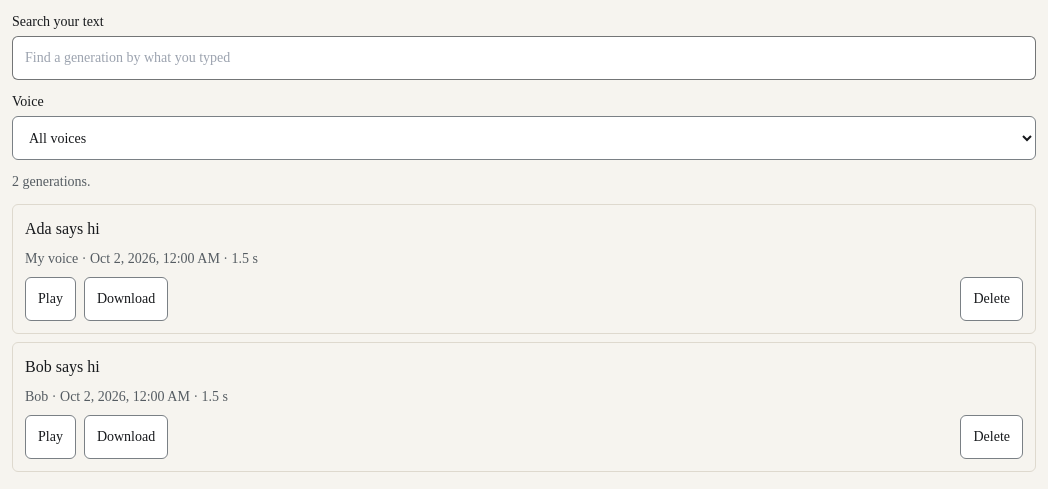
Test: History voice filter › narrows the list and its count to the chosen voice, and back to all
Check: the text "2 generations." is shown, box [12,174,90,189]
Step 1. Select "Bob" in the dropdown labelled "Voice" → [524, 138], box [12,116,1036,160]
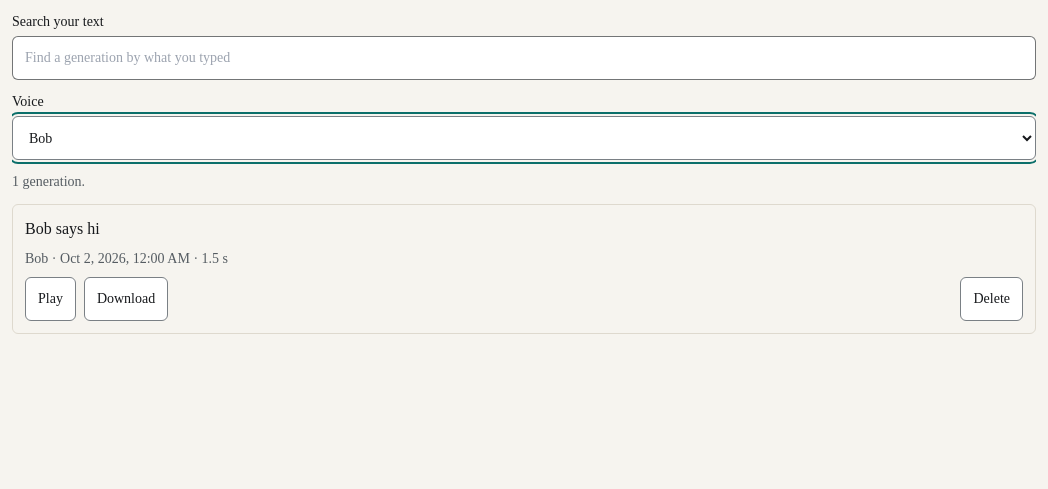
Check: the text "Bob says hi" is shown, box [25,220,100,237]
Check: the text "1 generation." is shown, box [12,174,85,189]
Check: the text "Ada says hi" is gone
Step 2. Select "All voices" in the dropdown labelled "Voice" → [524, 138], box [12,116,1036,160]
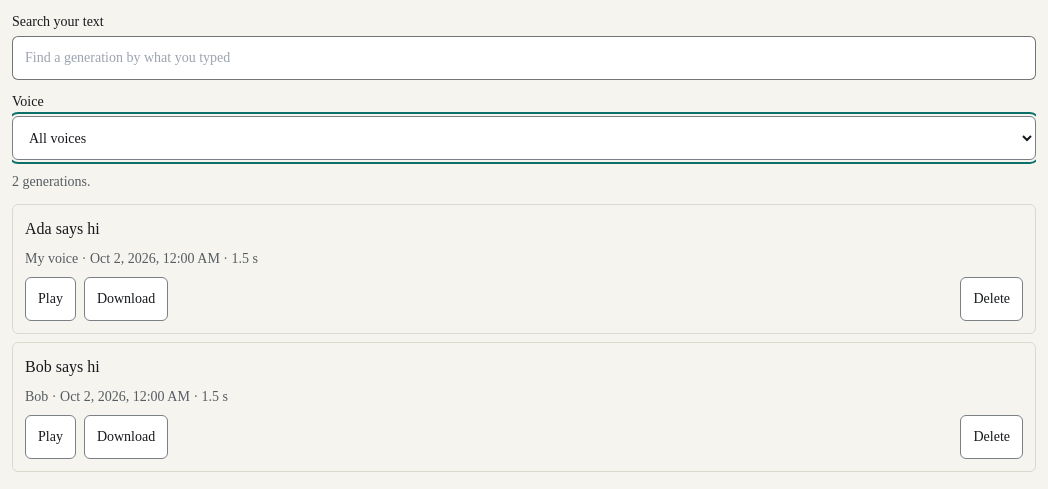
Check: the text "2 generations." is shown, box [12,174,90,189]
